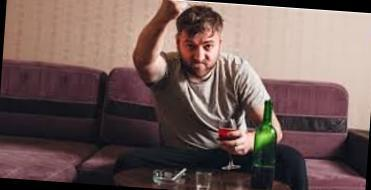Drunk: (182, 28, 217, 73)
